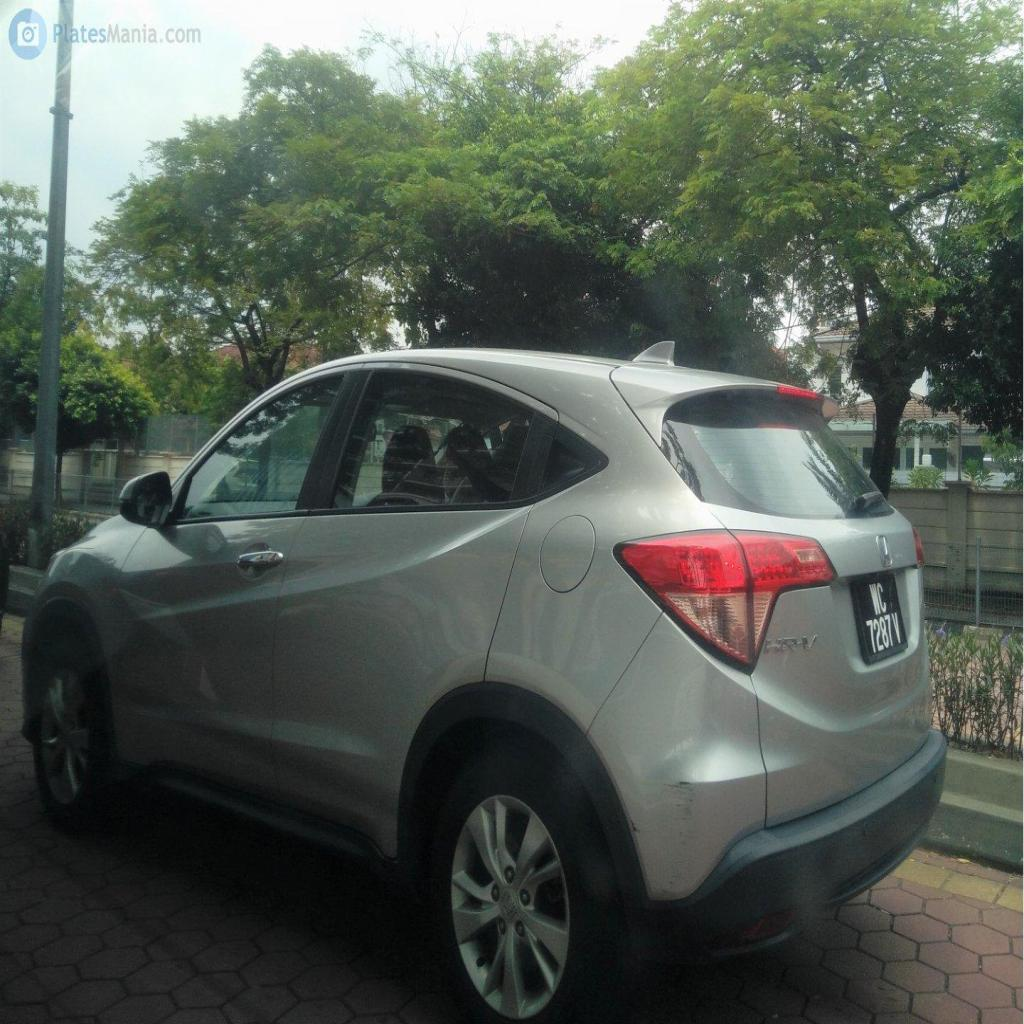car: (23, 345, 944, 1020)
car plate: (851, 574, 907, 662)
